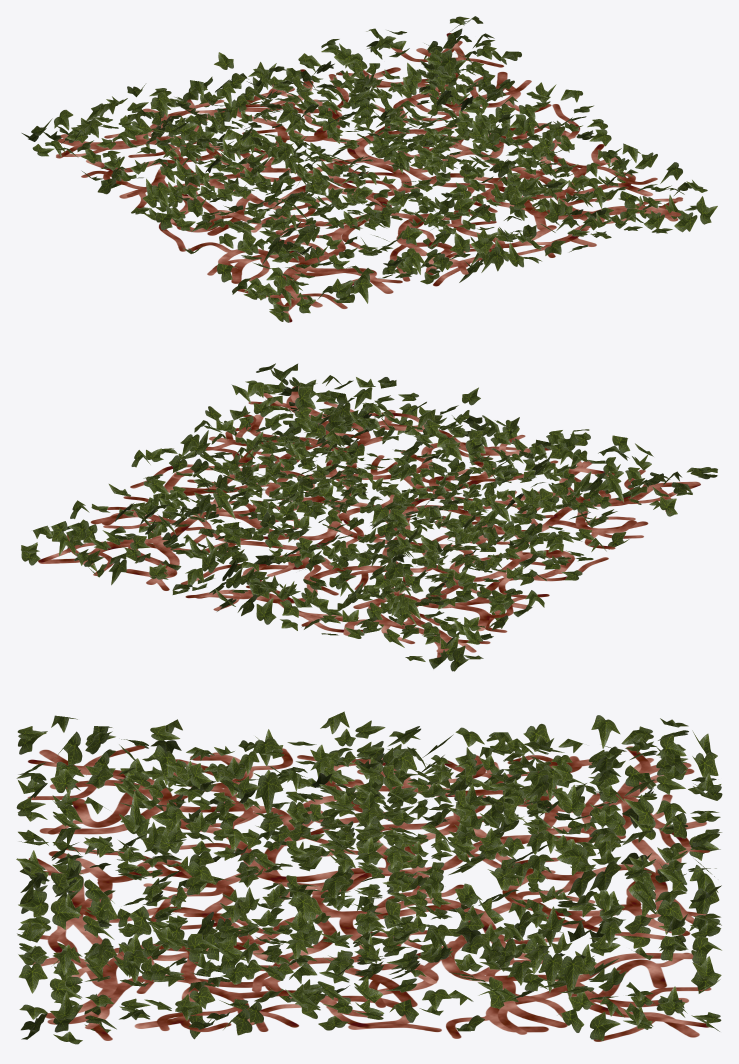
Rendered from lierre.glb.
3 renders of one model, top to bottom at view 1: azimuth 30°, elevation 25°; view 2: azimuth 150°, elevation 25°; view 3: azimuth 270°, elevation 25°, orthographic. The views are drawn at different scales.
Parts seen in each view (by area): view 1: Plane.006; view 2: Plane.006; view 3: Plane.006.
Boxes of the visible parts, x1=… form: Plane.006: x1=21, y1=16, x2=717, y2=322; Plane.006: x1=21, y1=363, x2=717, y2=671; Plane.006: x1=16, y1=711, x2=722, y2=1044.
Bounding box in the file's own units: 4.02 × 0.604 × 4.02.
Materials: 3 (3 with a texture image).
